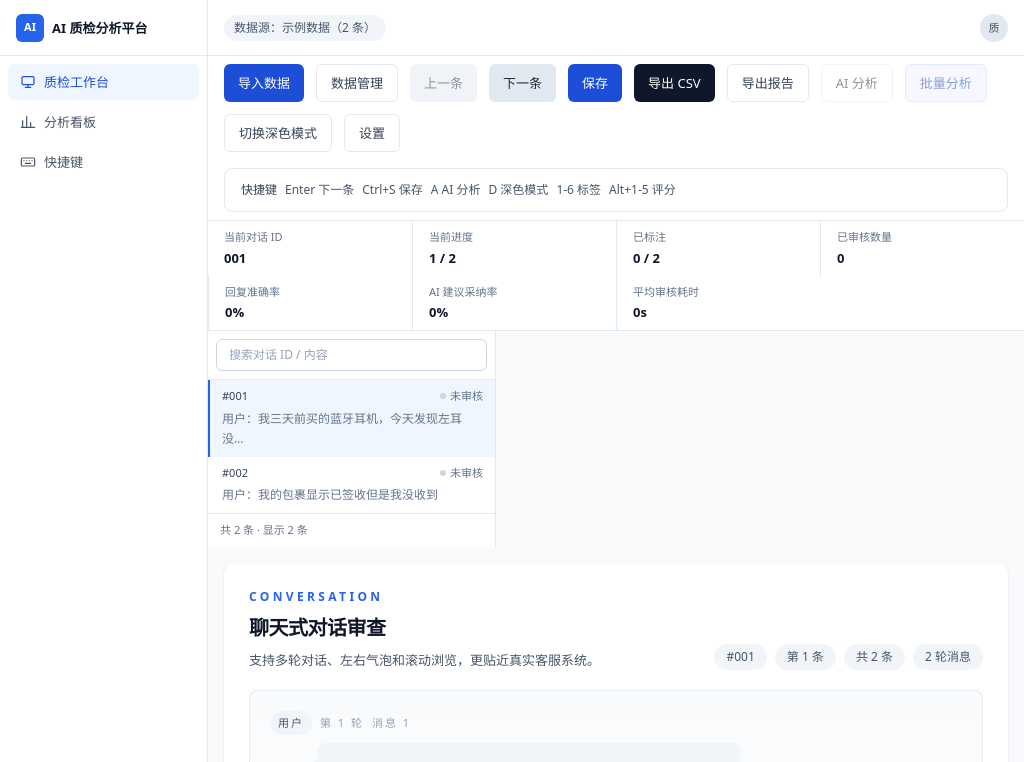
Test: F. AI 分析 › 未配置 Key 时按 A → 不会发起 DeepSeek 请求，进入失败态并提示「请先配置 DeepSeek API Key」
Check: the button "导出报告" is shown, box x1=727 y1=64 x2=809 y2=102
Press a
(page scrolled)
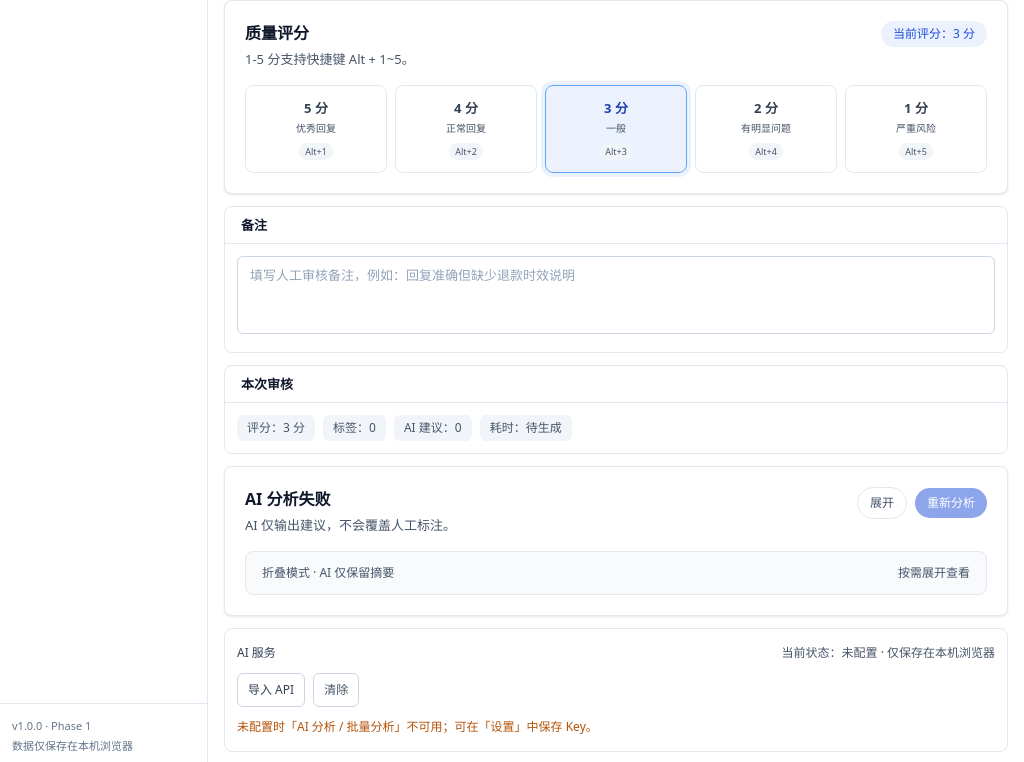
Check: the heading "AI 分析失败" is shown, box x1=245 y1=488 x2=330 y2=510
Click the button "展开" at (882, 503), box x1=857 y1=487 x2=907 y2=519
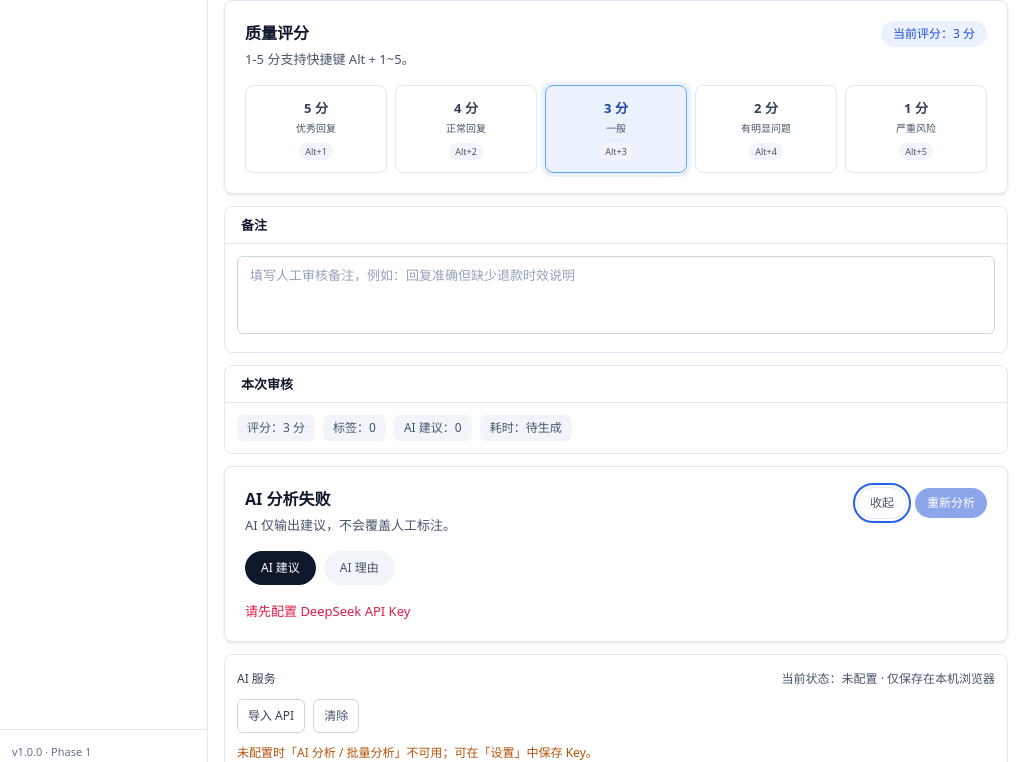
Check: the text "请先配置 DeepSeek API Key" is shown, box x1=245 y1=602 x2=410 y2=620
